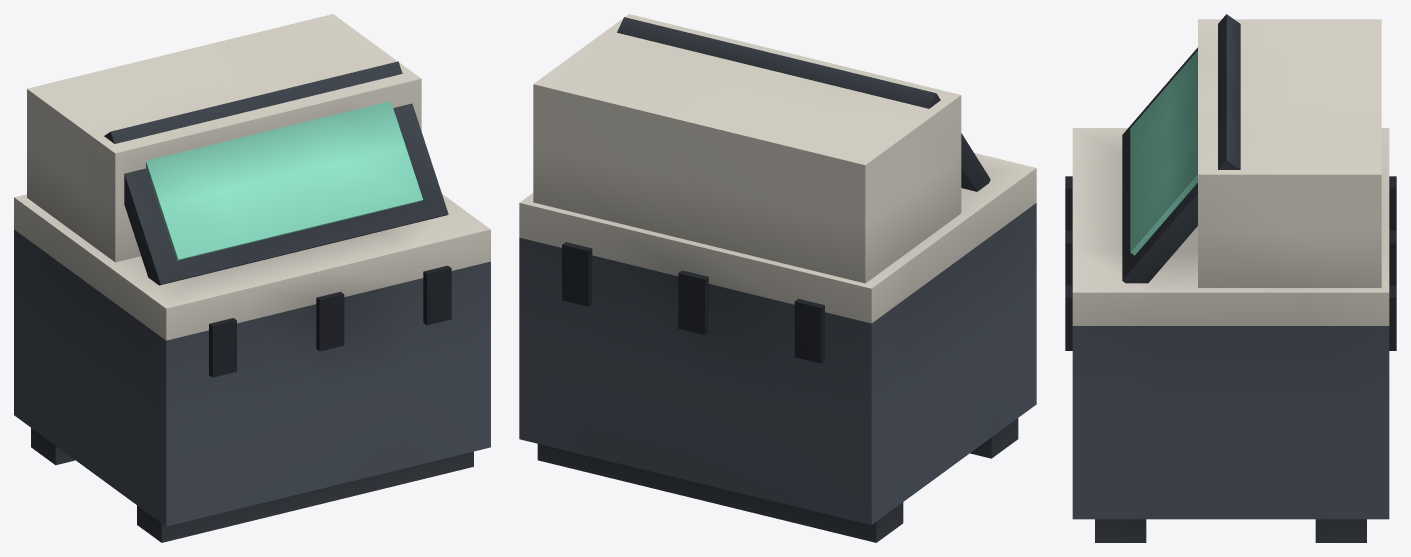
The model's file is CK1_FieldTerminal.glb.
3 renders of one model, left to right at view 1: azimuth 30°, elevation 25°; view 2: azimuth 150°, elevation 25°; view 3: azimuth 270°, elevation 25°, orthographic. The views are drawn at different scales.
Visible parts, largest first — view 1: CK1_FieldTerminal; view 2: CK1_FieldTerminal; view 3: CK1_FieldTerminal.
Boxes of the visible parts, left/top/right/bottom form: CK1_FieldTerminal: left=14, top=14, right=490, bottom=542; CK1_FieldTerminal: left=519, top=14, right=1036, bottom=542; CK1_FieldTerminal: left=1065, top=14, right=1396, bottom=542.
Bounding box in the file's own units: 1.06 × 1.13 × 0.9.
